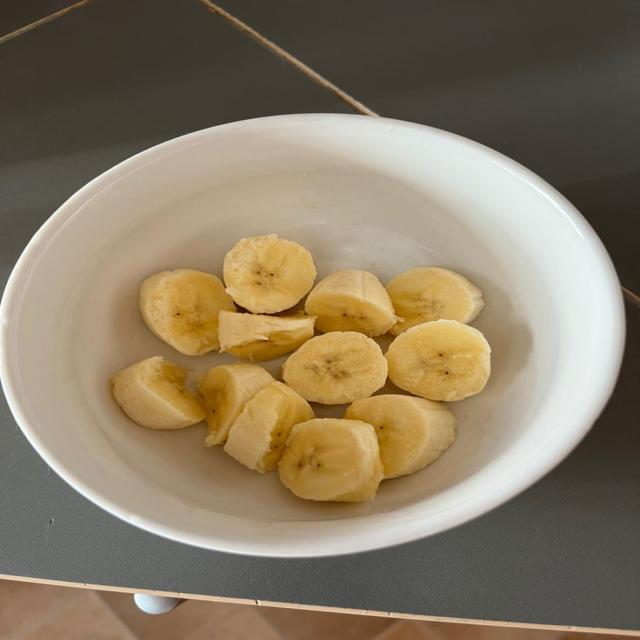banana slice: (345, 395, 457, 478), (279, 419, 382, 501), (387, 320, 490, 401), (140, 269, 235, 354), (225, 382, 314, 472), (282, 332, 386, 404), (224, 235, 316, 313), (112, 357, 205, 429), (387, 267, 484, 335), (199, 363, 273, 446), (306, 270, 399, 336), (219, 311, 314, 360)
